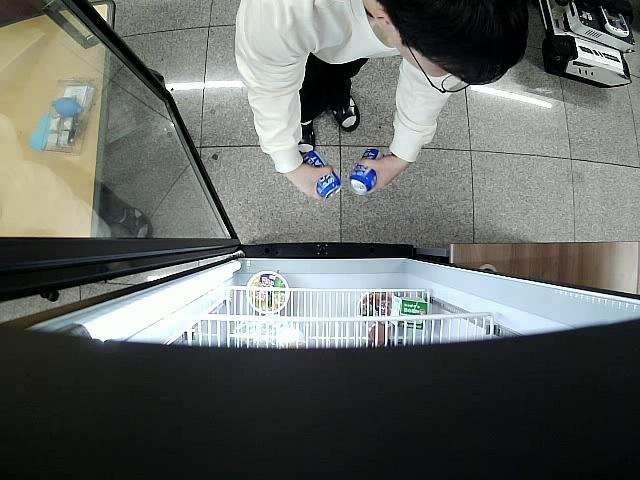13_pocariSweat: (303, 152, 342, 202), (347, 148, 384, 196)
